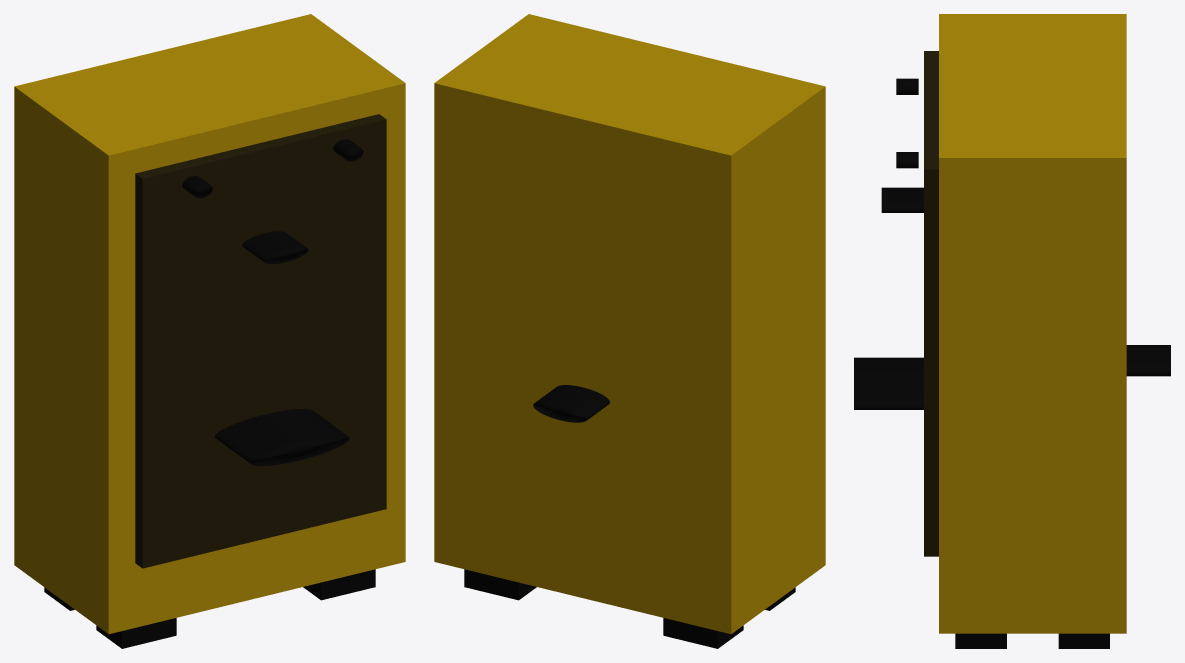
File: product.a6a66341.glb
3 renders of one model, left to right at view 1: azimuth 30°, elevation 25°; view 2: azimuth 150°, elevation 25°; view 3: azimuth 270°, elevation 25°, orthographic.
Parts seen in each view (by area): view 1: cabinet, front-grille, woofer-cone, tweeter; view 2: cabinet, woofer-cone; view 3: cabinet, front-grille, woofer-cone, tweeter.
Part boxes in pixels (left/top/right/bottom): cabinet: left=14, top=14, right=405, bottom=634; front-grille: left=135, top=114, right=386, bottom=568; woofer-cone: left=44, top=409, right=375, bottom=648; tweeter: left=182, top=139, right=363, bottom=263; cabinet: left=434, top=14, right=825, bottom=634; woofer-cone: left=464, top=385, right=795, bottom=648; cabinet: left=939, top=14, right=1126, bottom=633; front-grille: left=924, top=51, right=938, bottom=556; woofer-cone: left=854, top=345, right=1170, bottom=648; tweeter: left=881, top=78, right=923, bottom=212.
Size of the model in its own units: 1.85 by 3.01 by 1.72.
